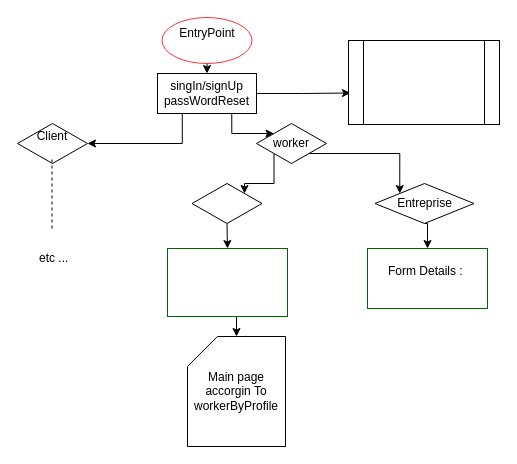
Some shapes in this 517 by 464 pixel diagram are drawn without their labels. The shapes that lost their labels are listed below. From the top down, each one's centre as x and y in pixels, then its label:
At (x=424, y=82): "notifiction : send Sms/email in case of first singIn/password Reset".
At (x=226, y=203): "Indi".
At (x=227, y=282): "Form Details : FullName,Age,work, Sex,City,Lang, pictureAvatar ...".
